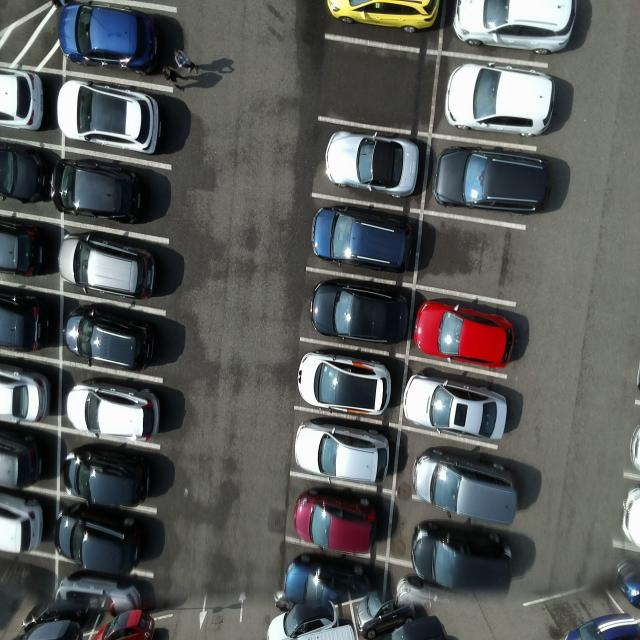car: (434, 142, 555, 219), (445, 63, 558, 142), (407, 522, 521, 600), (411, 448, 521, 528), (57, 79, 164, 158), (412, 295, 516, 373), (401, 372, 510, 444), (59, 3, 161, 78), (57, 233, 161, 303), (309, 278, 409, 350), (325, 131, 423, 203), (51, 507, 145, 580), (312, 206, 412, 274), (295, 352, 394, 420), (51, 158, 146, 227), (295, 419, 391, 487), (64, 308, 158, 374), (67, 382, 160, 448), (292, 488, 380, 556), (62, 451, 153, 513)
free_space: (317, 33, 441, 134), (415, 209, 530, 310)
